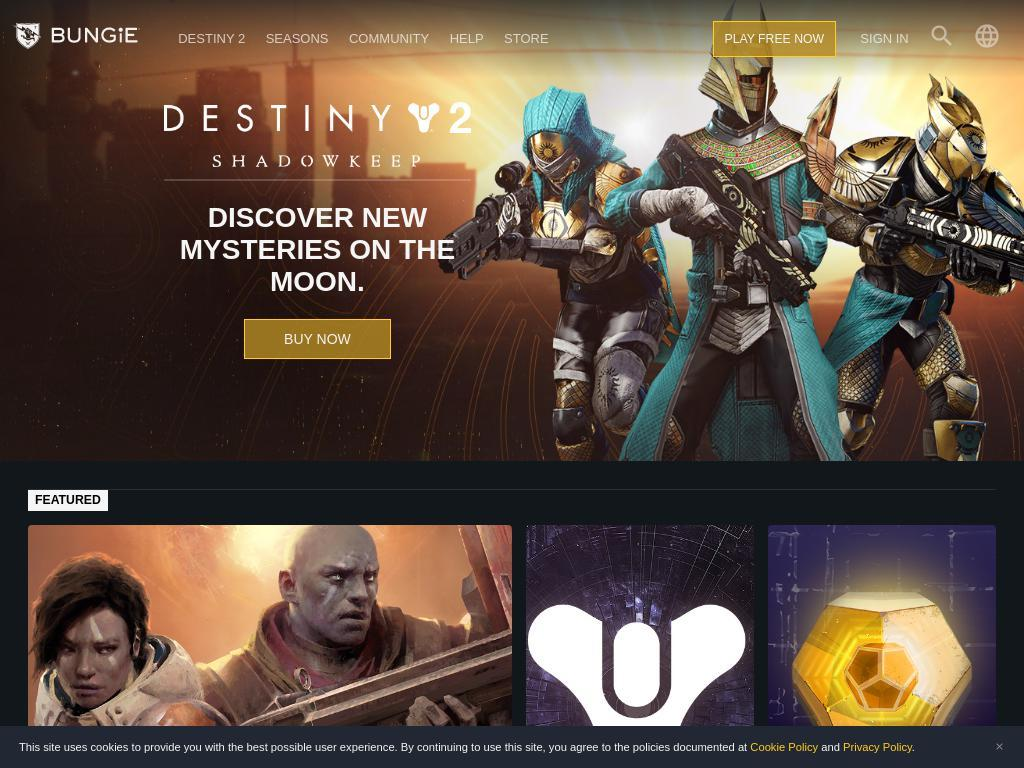button: (28, 524, 512, 768), (526, 524, 754, 768), (768, 524, 996, 768), (338, 0, 440, 78), (168, 0, 256, 78), (255, 0, 339, 78), (244, 318, 391, 359), (850, 0, 919, 78), (493, 0, 559, 78), (712, 21, 837, 57), (439, 0, 494, 78), (927, 22, 956, 101)
heading: (14, 0, 140, 78)
image: (0, 0, 1024, 461), (28, 524, 512, 768), (526, 524, 754, 768), (768, 524, 996, 768)
link: (750, 740, 819, 753), (843, 740, 912, 753), (927, 22, 956, 51)
text: (0, 0, 1024, 461), (163, 178, 472, 319), (19, 740, 750, 753), (28, 489, 108, 511), (973, 22, 1002, 51), (818, 740, 844, 753), (994, 741, 1005, 753), (911, 740, 915, 753)
